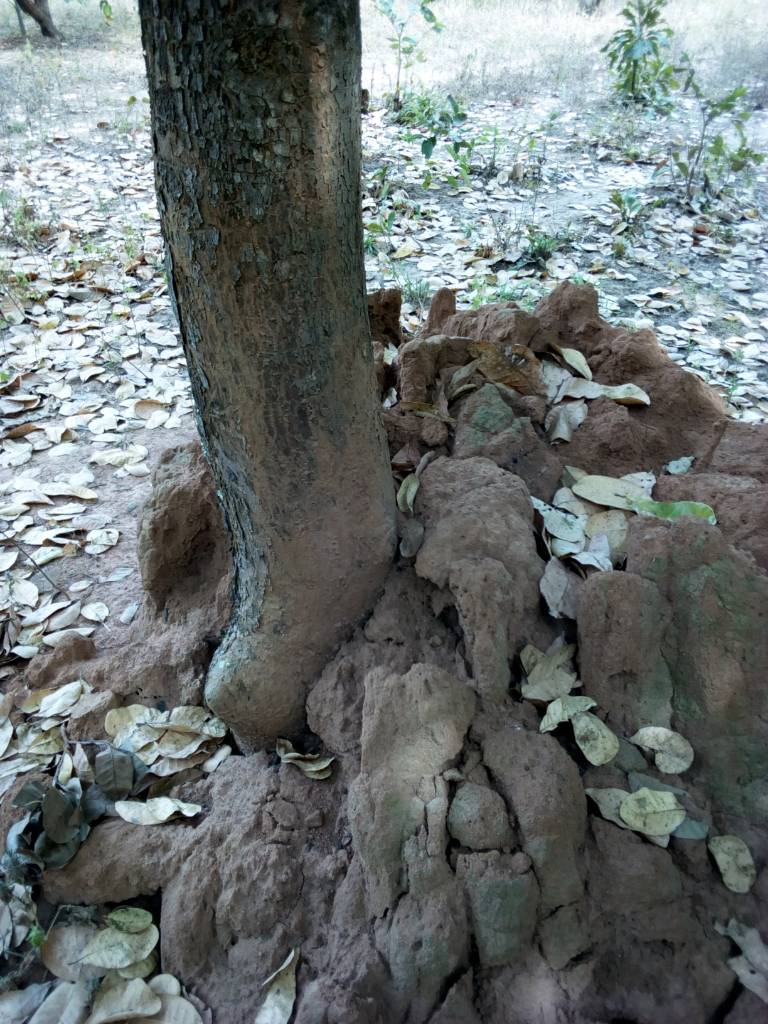Termites: (190, 757, 640, 1024), (402, 444, 768, 760), (199, 464, 380, 722)
